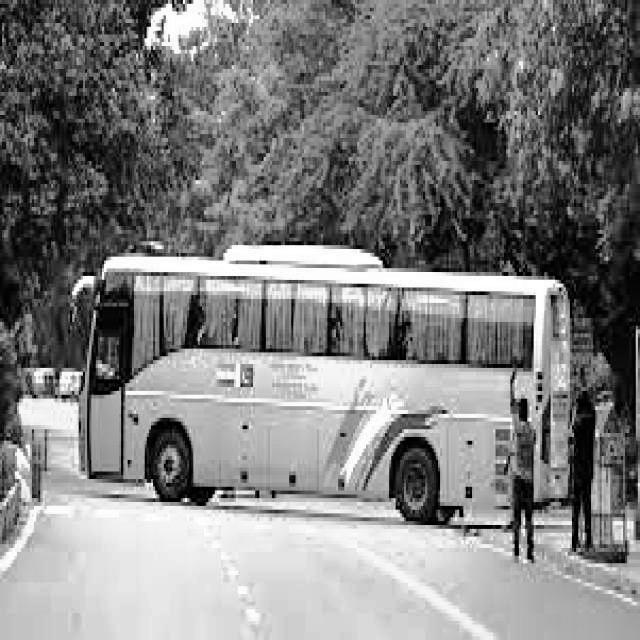Bus: (65, 248, 591, 530)
